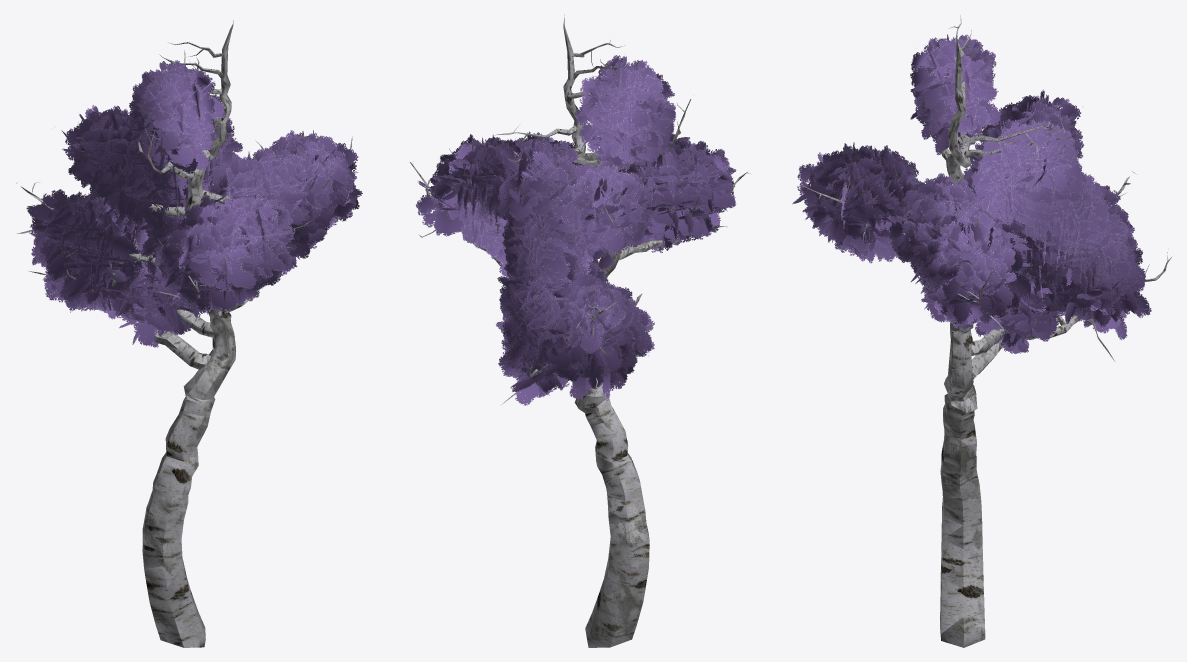
The model's file is tree_w_material 4.fbx.
3 views of the same model, side by side, from view 1: azimuth 30°, elevation 25°; view 2: azimuth 150°, elevation 25°; view 3: azimuth 270°, elevation 25° (orthographic).
Parts seen in each view (by area): view 1: geo1; view 2: geo1; view 3: geo1.
Boxes of the visible parts, <box> form: geo1: <box>16,20,362,647</box>; geo1: <box>410,14,750,647</box>; geo1: <box>792,15,1172,647</box>.
Size of the model in its own units: 442 by 897 by 504.
